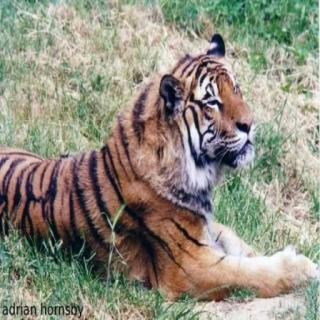Tiger: (0, 29, 318, 302)
